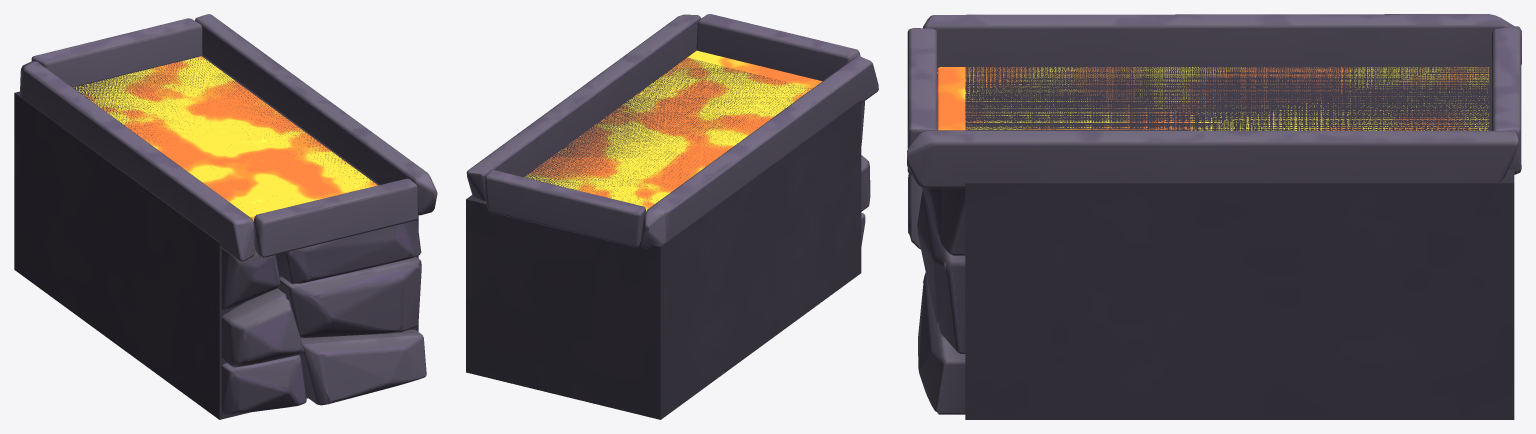
File: EF_T08_LavaChannel.fbx
3 renders of one model, left to right at view 1: azimuth 30°, elevation 25°; view 2: azimuth 150°, elevation 25°; view 3: azimuth 270°, elevation 25°, orthographic. The views are drawn at different scales.
Visible parts, largest first — view 1: Rock, Rim, Lava; view 2: Rock, Rim, Lava; view 3: Rock, Rim, Lava.
Part boxes in pixels (<box>): Rock: <box>14,55,426,419</box>; Rim: <box>20,14,437,261</box>; Lava: <box>73,56,377,248</box>; Rock: <box>466,57,870,419</box>; Rim: <box>466,14,878,248</box>; Lava: <box>525,50,821,211</box>; Rock: <box>908,65,1514,419</box>; Rim: <box>907,14,1521,188</box>; Lava: <box>937,67,1488,130</box>.
Bounding box in the file's own units: 2 × 2 × 4.
